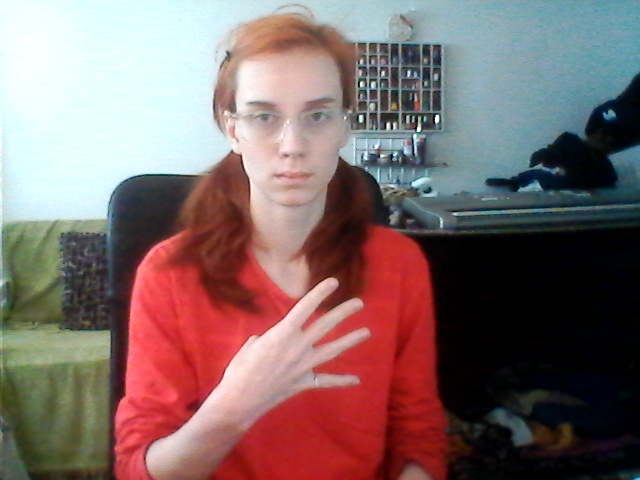styri: (228, 275, 378, 407)
